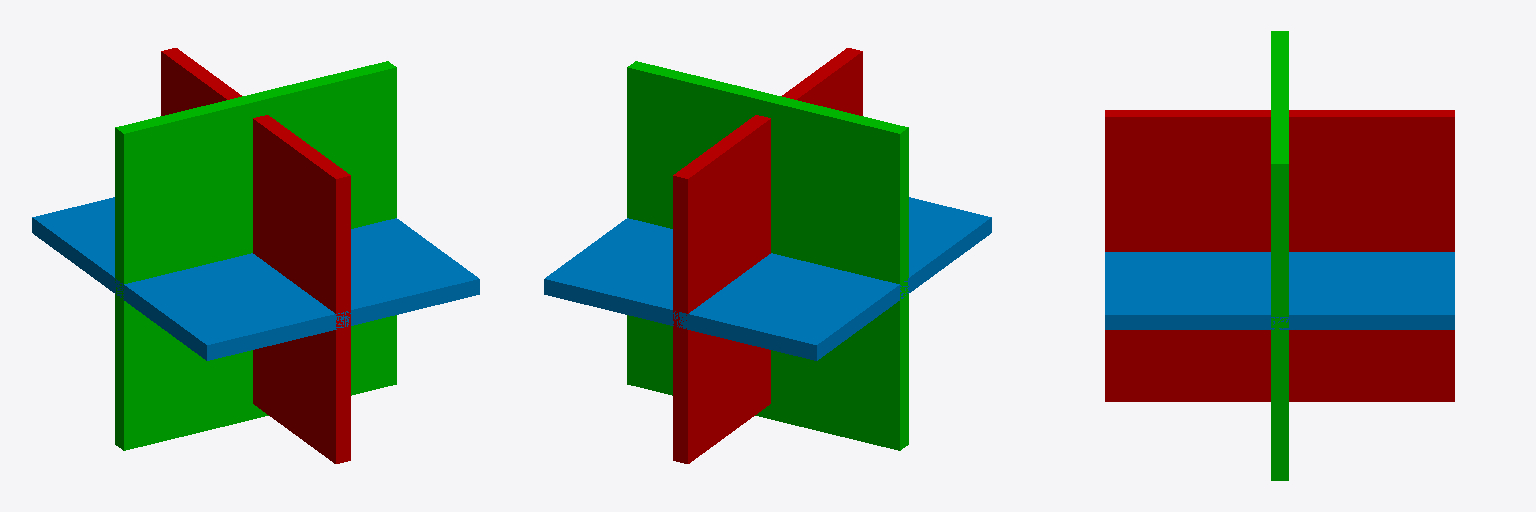
The model's file is planes.obj.
3 views of the same model, side by side, from view 1: azimuth 30°, elevation 25°; view 2: azimuth 150°, elevation 25°; view 3: azimuth 270°, elevation 25° (orthographic).
Visible parts, largest first — view 1: Cube, Cube.001, Cube.002; view 2: Cube, Cube.001, Cube.002; view 3: Cube.002, Cube.001, Cube.
Boxes of the visible parts, x1,y1,x2,y2 form: Cube: [115, 61, 396, 450]; Cube.001: [32, 197, 479, 360]; Cube.002: [161, 48, 350, 463]; Cube: [627, 61, 908, 450]; Cube.001: [544, 197, 991, 360]; Cube.002: [673, 48, 862, 463]; Cube.002: [1105, 110, 1454, 401]; Cube.001: [1105, 252, 1454, 329]; Cube: [1271, 31, 1288, 480].
Bounding box in the file's own units: 18 × 20 × 20.